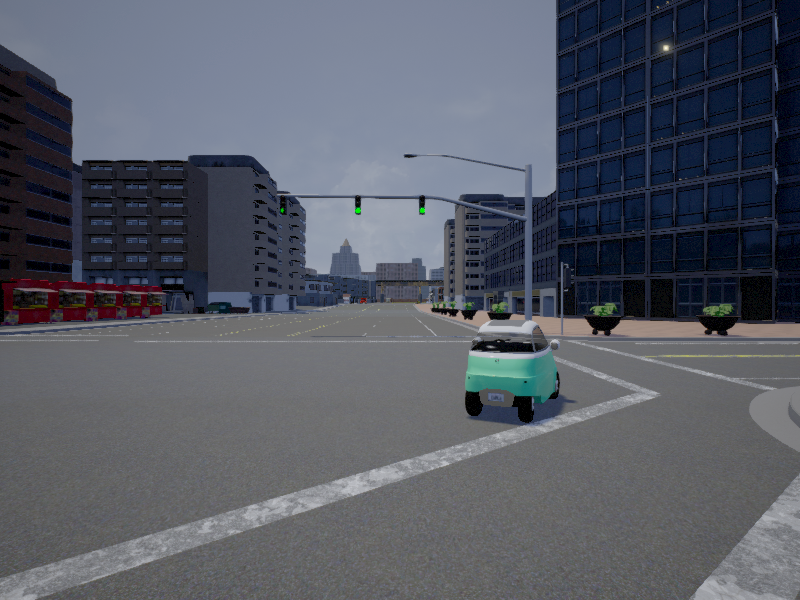Benign: (465, 319, 562, 425)
